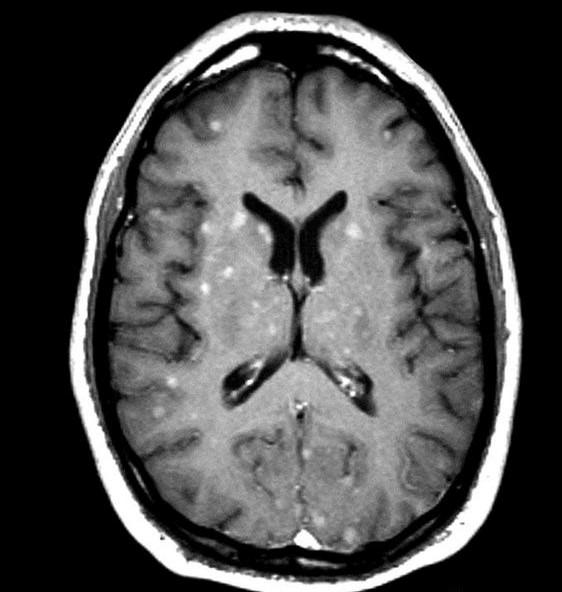Normal_Brain: (5, 3, 562, 592)
